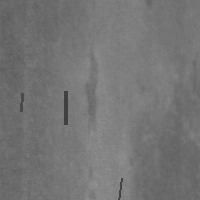inclusion: (130, 78, 198, 198), (79, 46, 101, 136), (114, 176, 123, 200), (63, 89, 67, 126), (19, 91, 24, 113)
